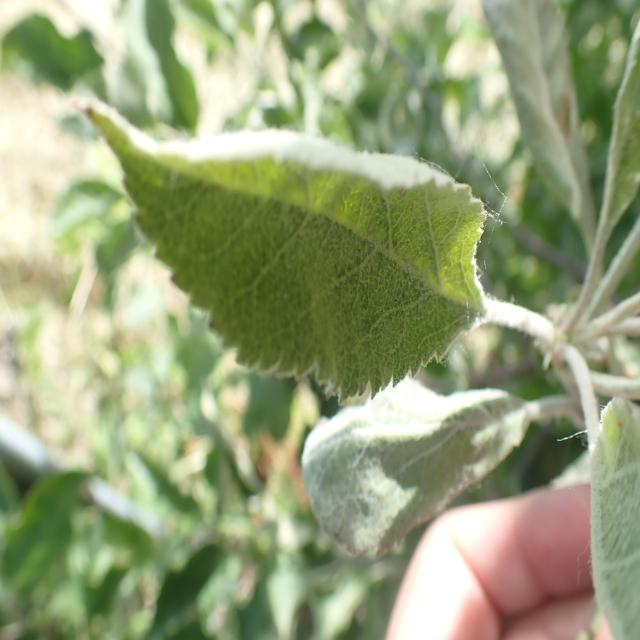Powdery_mildew: (75, 83, 492, 383), (300, 362, 558, 550), (480, 0, 591, 255), (583, 390, 639, 640), (599, 0, 640, 251)
